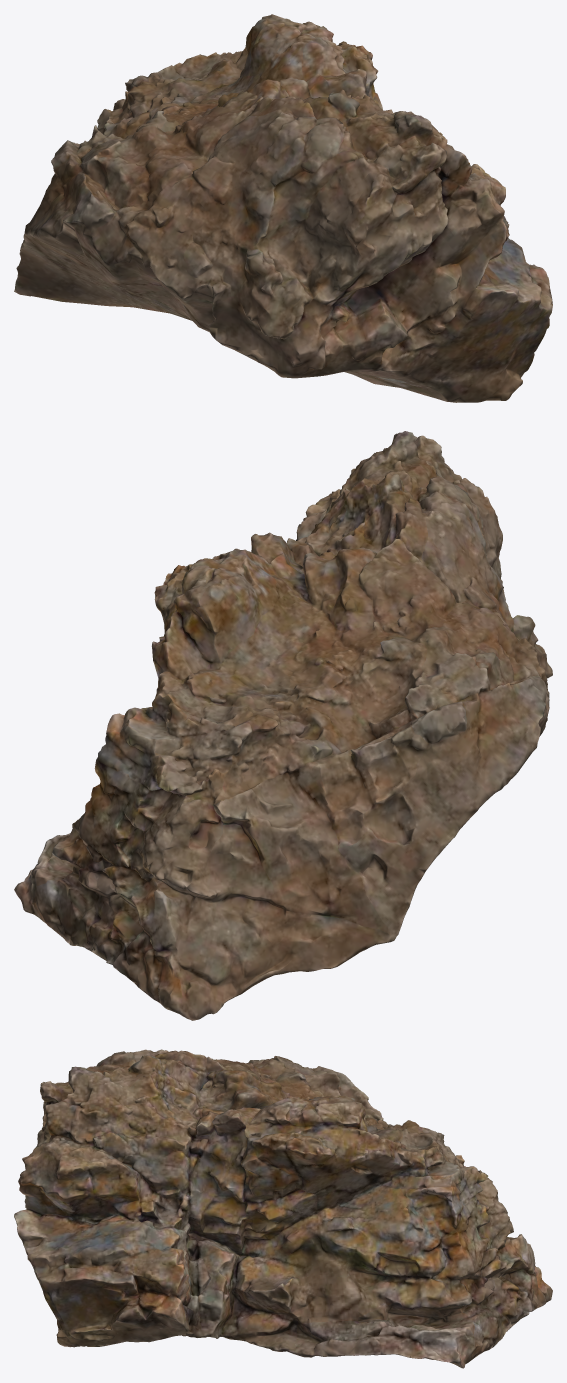
Rendered from boulder_01.glb.
3 renders of one model, top to bottom at view 1: azimuth 30°, elevation 25°; view 2: azimuth 150°, elevation 25°; view 3: azimuth 270°, elevation 25°, orthographic. The views are drawn at different scales.
Parts seen in each view (by area): view 1: boulder_01; view 2: boulder_01; view 3: boulder_01.
Boxes of the visible parts, x1,y1,x2,y2 form: boulder_01: (14,14,552,402); boulder_01: (14,431,552,1020); boulder_01: (14,1049,552,1368).
Size of the model in its own units: 1.27 by 1 by 1.83.
1 material, 1 textured.
